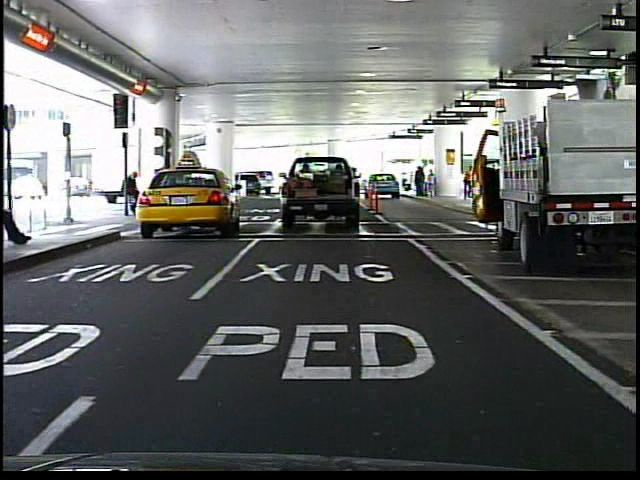person: (124, 165, 147, 221)
